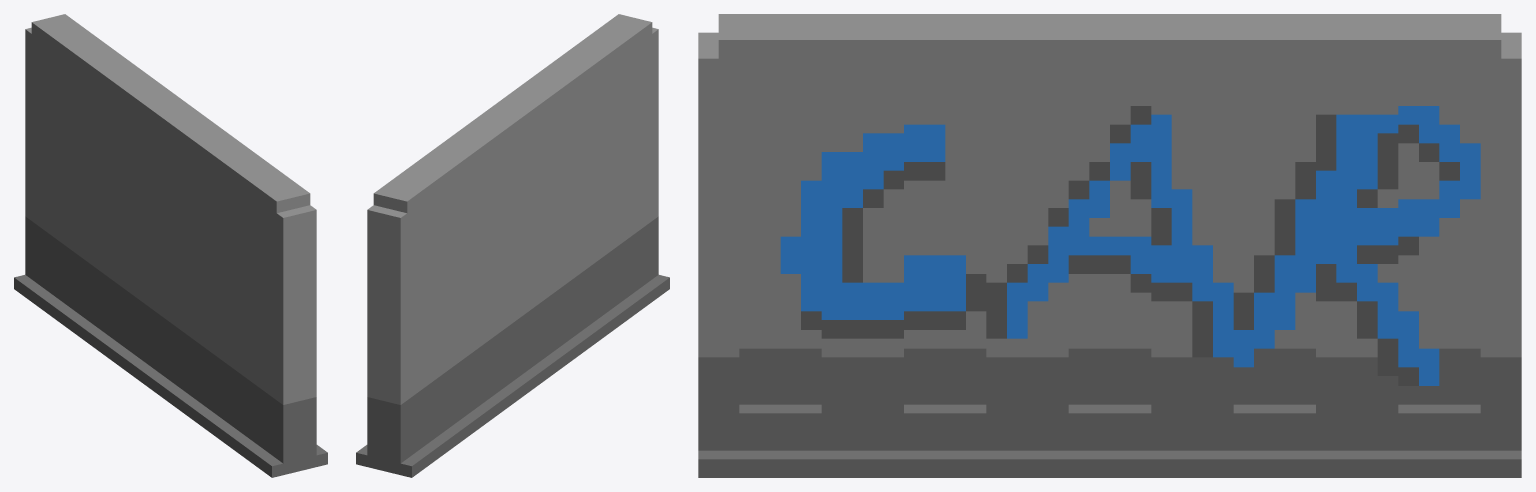
File: All-22-Zabor_1.obj
3 views of the same model, side by side, from view 1: azimuth 30°, elevation 25°; view 2: azimuth 150°, elevation 25°; view 3: azimuth 270°, elevation 25° (orthographic). The views are drawn at different scales.
Visible parts, largest first — view 1: Zabor_1; view 2: Zabor_1; view 3: Zabor_1.
Part boxes in pixels (<box>): Zabor_1: <box>14,14,327,477</box>; Zabor_1: <box>356,14,669,477</box>; Zabor_1: <box>698,14,1521,477</box>.
Size of the model in its own units: 0.5 by 2.3 by 4.
Materials: 1 (1 with a texture image).
